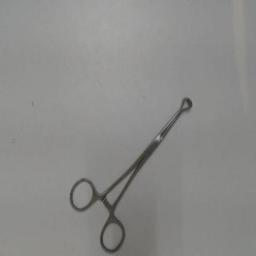Babcock Tissue Forceps: (67, 95, 195, 255)
